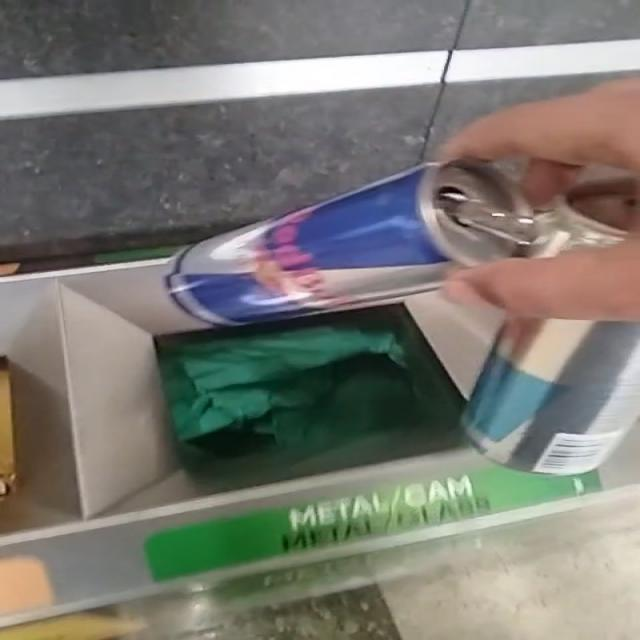Bin: (0, 260, 603, 616)
Metal: (165, 160, 627, 325), (465, 320, 640, 475), (527, 177, 640, 259)
